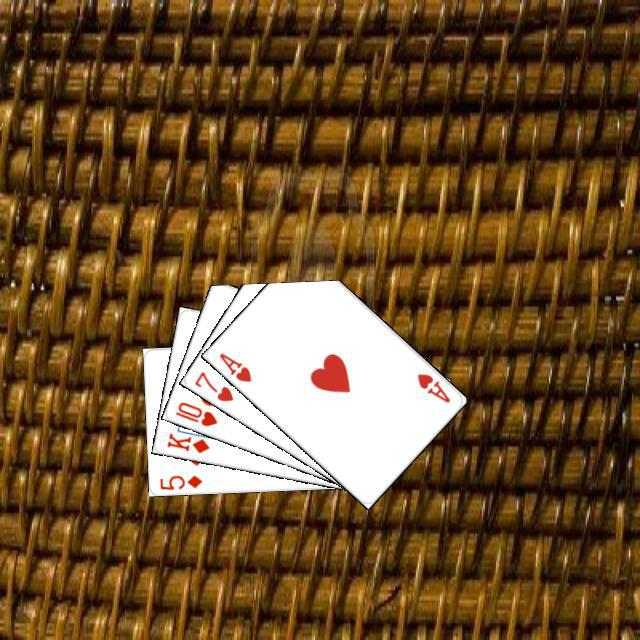10h: (170, 397, 219, 428)
5d: (155, 470, 204, 491)
7h: (189, 366, 235, 403)
Ah: (412, 369, 452, 405), (214, 348, 253, 384)
Kd: (162, 428, 211, 455)
